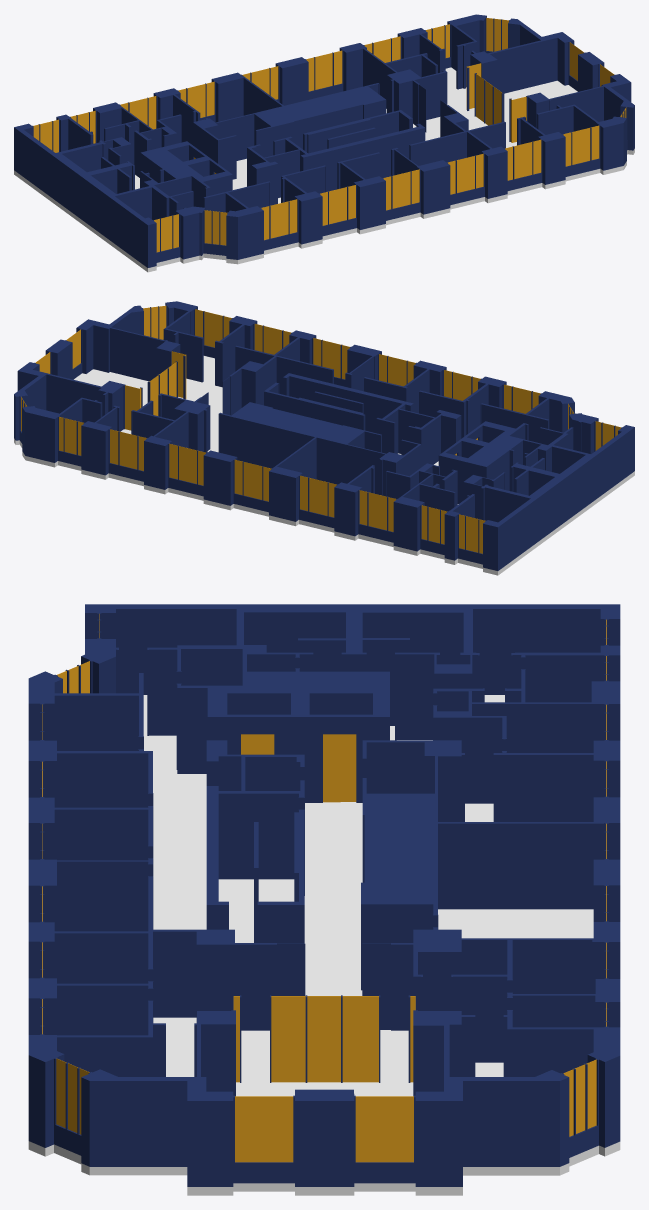
The model's file is 26W 2nd Floor.fbx.
The picture shows the model from 3 angles, top to bottom: view 1: azimuth 30°, elevation 25°; view 2: azimuth 150°, elevation 25°; view 3: azimuth 270°, elevation 25°; orthographic projection. The views are drawn at different scales.
Parts seen in each view (by area): view 1: Walls, Interior Member, Object_7; view 2: Walls, Interior Member, Object_7; view 3: Walls, Object_7, Interior Member.
Part boxes in pixels (left/top/right/bottom): Walls: left=14, top=14, right=634, bottom=267; Interior Member: left=33, top=18, right=626, bottom=252; Object_7: left=14, top=67, right=634, bottom=272; Walls: left=14, top=301, right=634, bottom=570; Interior Member: left=21, top=305, right=621, bottom=553; Object_7: left=14, top=356, right=634, bottom=575; Walls: left=28, top=604, right=620, bottom=1186; Object_7: left=28, top=695, right=620, bottom=1195; Interior Member: left=42, top=614, right=606, bottom=1162.
Bounding box in the file's own units: 1488 × 749 × 132.
